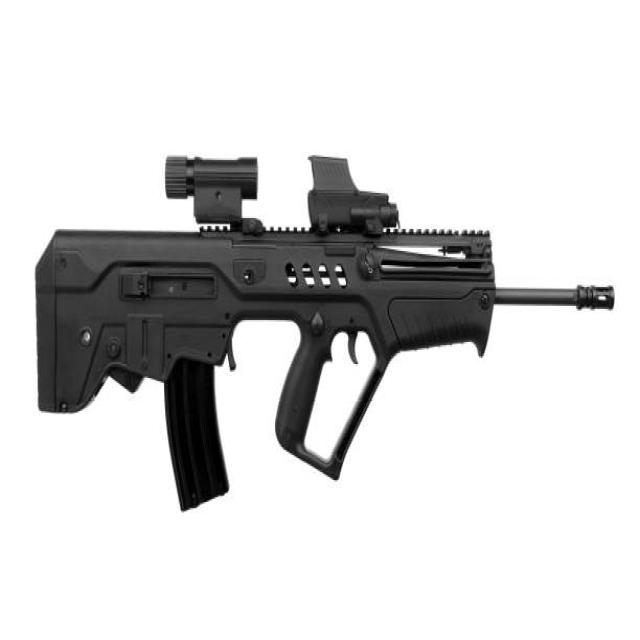rifle: (28, 138, 624, 551)
